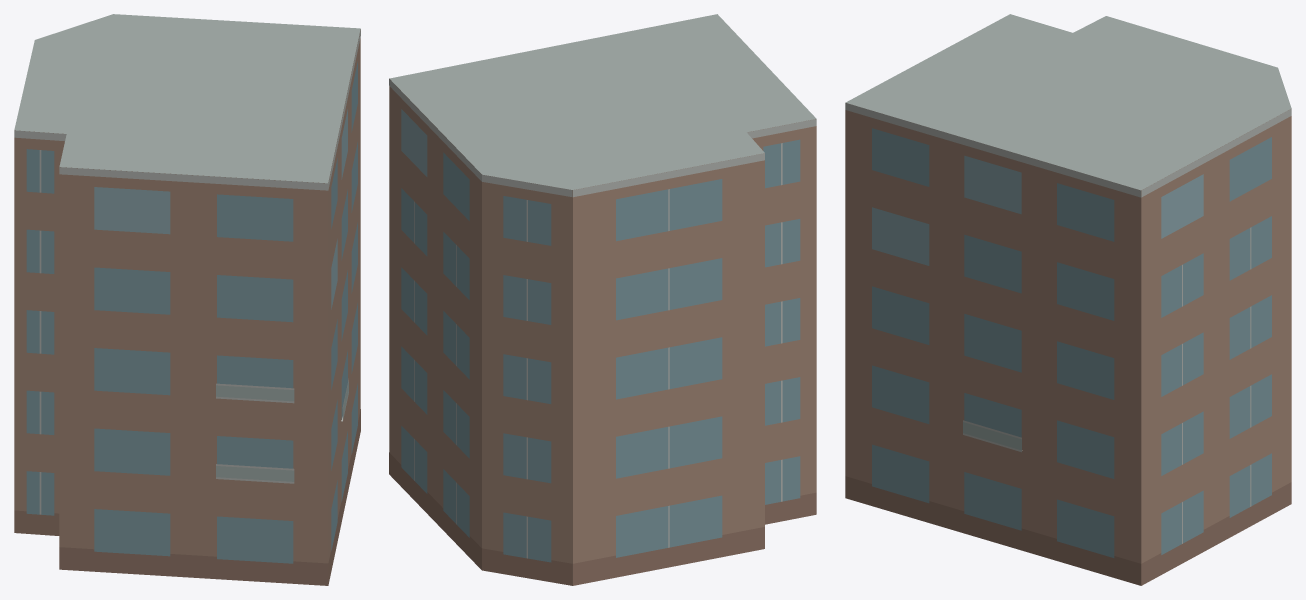
The model's file is survey-upis-32670714.glb.
3 views of the same model, side by side, from view 1: azimuth 30°, elevation 25°; view 2: azimuth 150°, elevation 25°; view 3: azimuth 270°, elevation 25° (orthographic).
Visible parts, largest first — view 1: survey-upis-32670714.tmp; view 2: survey-upis-32670714.tmp; view 3: survey-upis-32670714.tmp.
Boxes of the visible parts, <box> form: survey-upis-32670714.tmp: <box>14,14,360,585</box>; survey-upis-32670714.tmp: <box>389,14,816,585</box>; survey-upis-32670714.tmp: <box>845,14,1291,585</box>.
Size of the model in its own units: 12.83 by 13.4 by 13.72.
